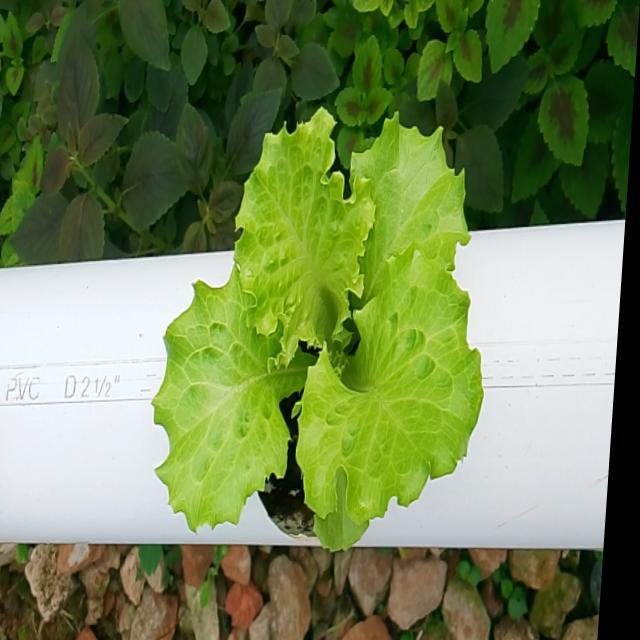Baby: (152, 110, 482, 551)
